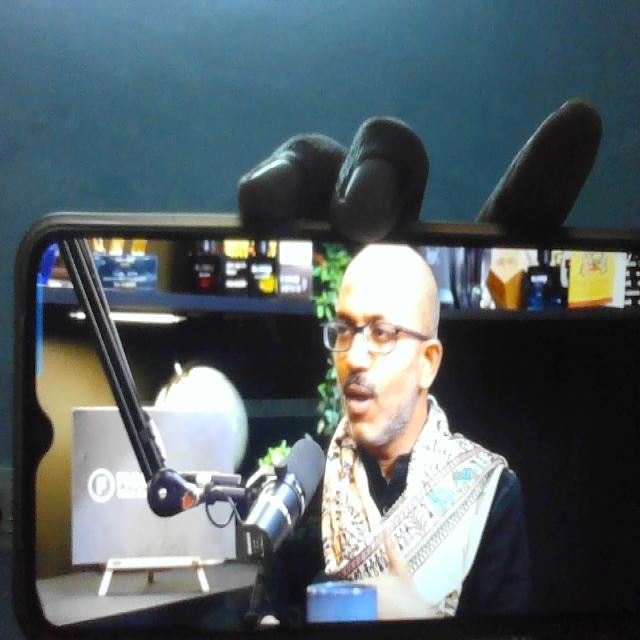fake: (310, 204, 440, 451)
